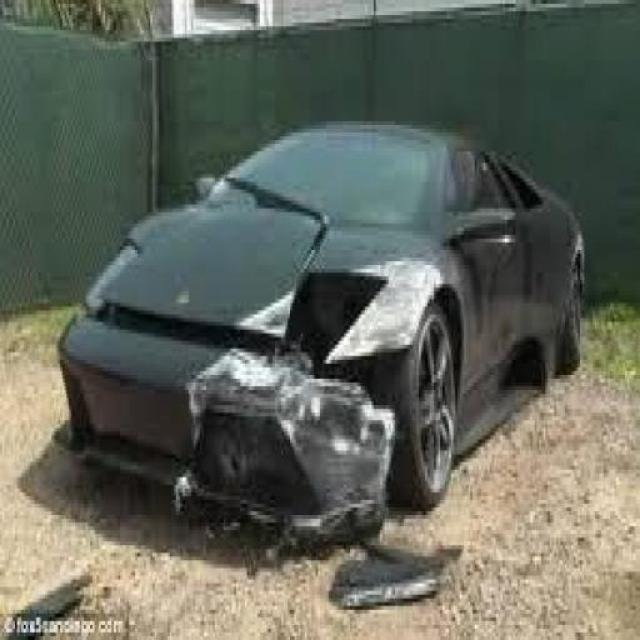crush: (165, 252, 452, 553)
